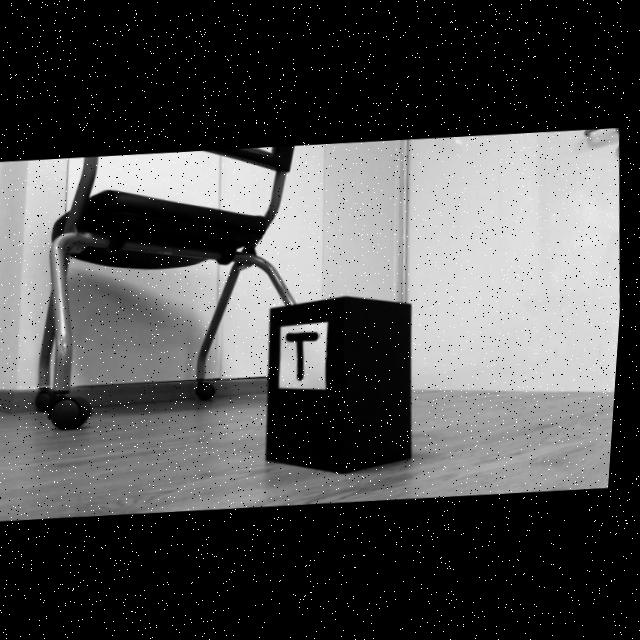T: (290, 330, 324, 379)
